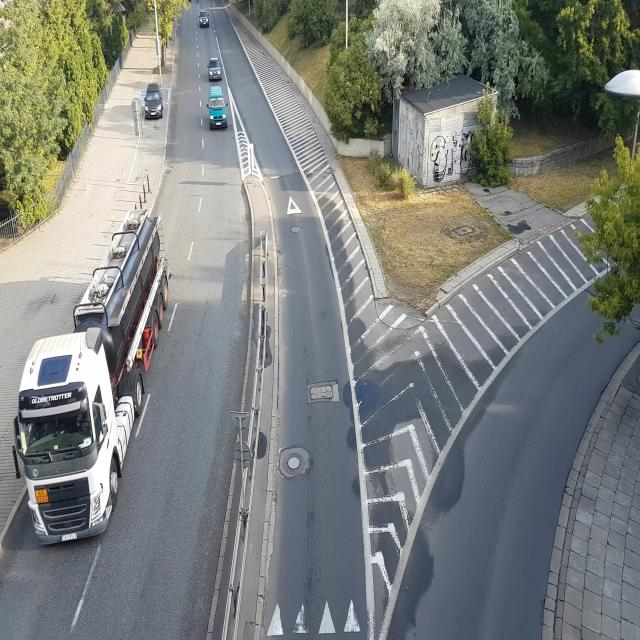car: (208, 88, 230, 128), (144, 88, 166, 119), (209, 57, 224, 80), (199, 13, 210, 27)
truck: (15, 212, 175, 543)
